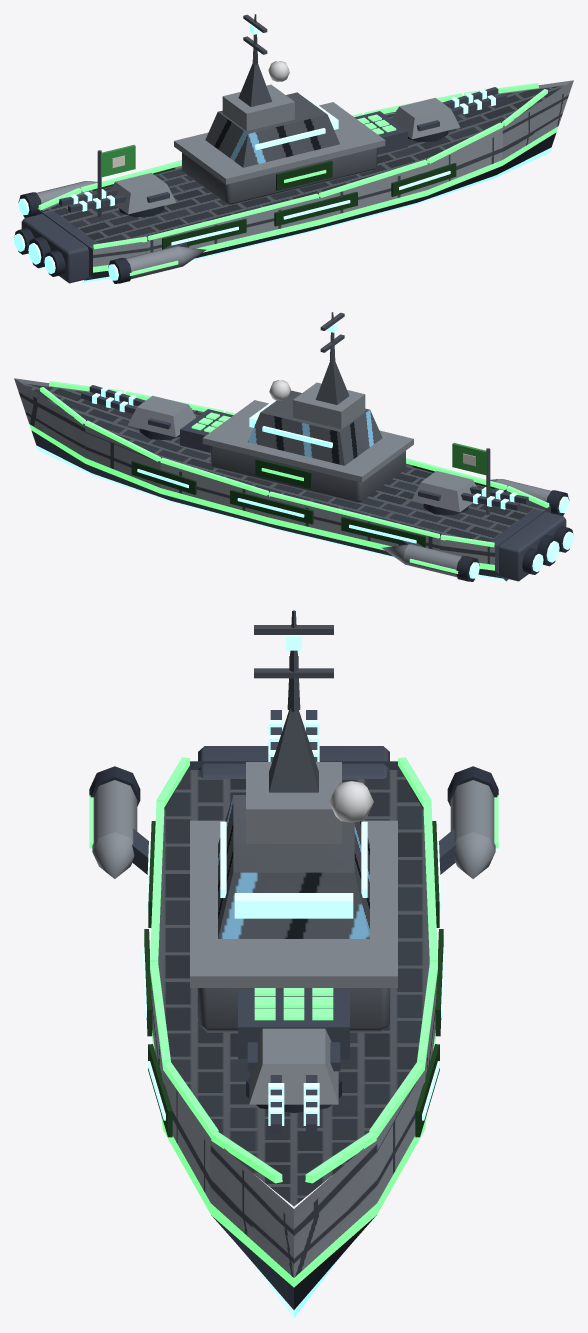
Rendered from cruiser_scifi_green.glb.
The picture shows the model from 3 angles, top to bottom: view 1: azimuth 30°, elevation 25°; view 2: azimuth 150°, elevation 25°; view 3: azimuth 270°, elevation 25°; orthographic projection. The views are drawn at different scales.
Parts seen in each view (by area): view 1: cruiser_scifi_green; view 2: cruiser_scifi_green; view 3: cruiser_scifi_green.
Boxes of the visible parts, bbox=[...] form: cruiser_scifi_green: bbox=[14, 14, 573, 283]; cruiser_scifi_green: bbox=[14, 312, 573, 581]; cruiser_scifi_green: bbox=[89, 610, 498, 1318].
Size of the model in its own units: 0.78 by 0.29 by 0.256.
Materials: 3 (1 with a texture image).
